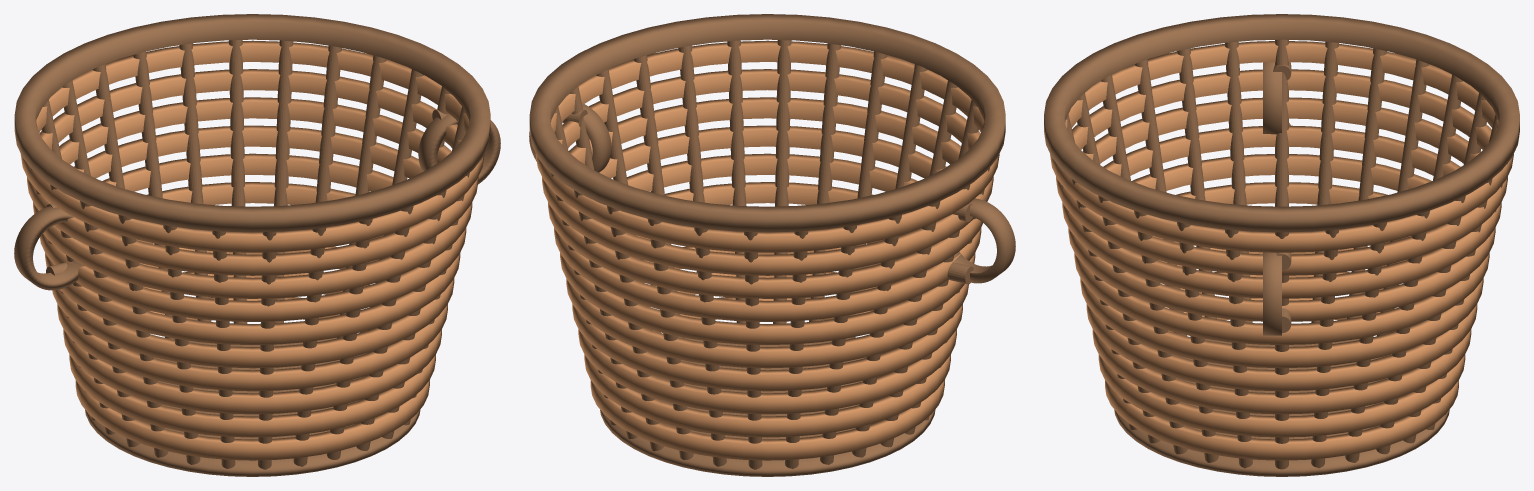
Rendered from tea-garden-and-processing-house-tea-garden-and-process-fc95a063__30757.glb.
The picture shows the model from 3 angles, left to right: view 1: azimuth 30°, elevation 25°; view 2: azimuth 150°, elevation 25°; view 3: azimuth 270°, elevation 25°; orthographic projection.
Visible parts, largest first — view 1: tea-garden-and-processing-house-leaf-picking-basket; view 2: tea-garden-and-processing-house-leaf-picking-basket; view 3: tea-garden-and-processing-house-leaf-picking-basket.
Boxes of the visible parts, x1,y1,x2,y2 form: tea-garden-and-processing-house-leaf-picking-basket: [14, 14, 500, 476]; tea-garden-and-processing-house-leaf-picking-basket: [529, 14, 1015, 476]; tea-garden-and-processing-house-leaf-picking-basket: [1044, 14, 1519, 476].
Bounding box in the file's own units: 0.72 × 0.426 × 0.622.
